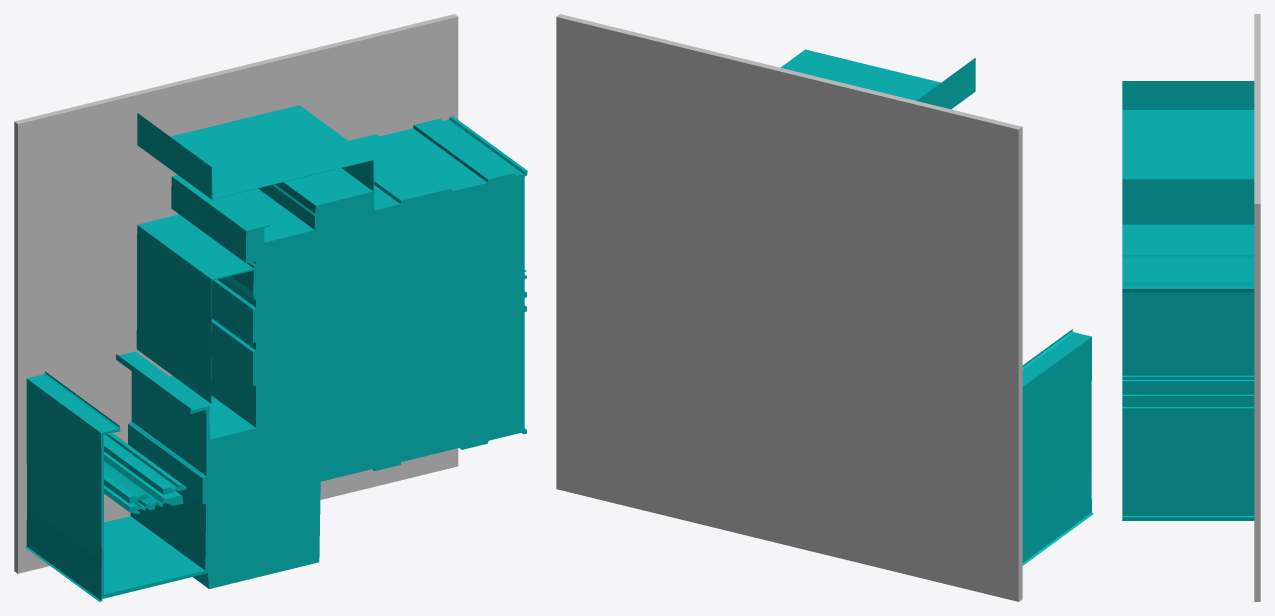
3 renders of one model, left to right at view 1: azimuth 30°, elevation 25°; view 2: azimuth 150°, elevation 25°; view 3: azimuth 270°, elevation 25°, orthographic. The views are drawn at different scales.
Visible parts, largest first — view 1: world; view 2: world; view 3: world.
Part boxes in pixels (x1=…): world: x1=14, y1=14, x2=527, y2=601; world: x1=556, y1=14, x2=1093, y2=601; world: x1=1122, y1=14, x2=1260, y2=601.
Bounding box in the file's own units: 10.23 × 9.98 × 3.15.
